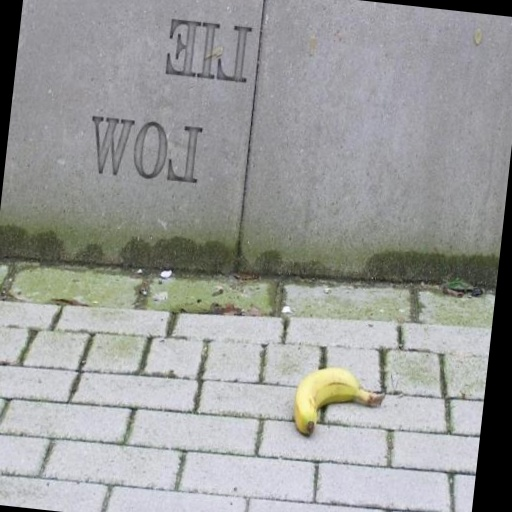fruit: (293, 367, 384, 435)
